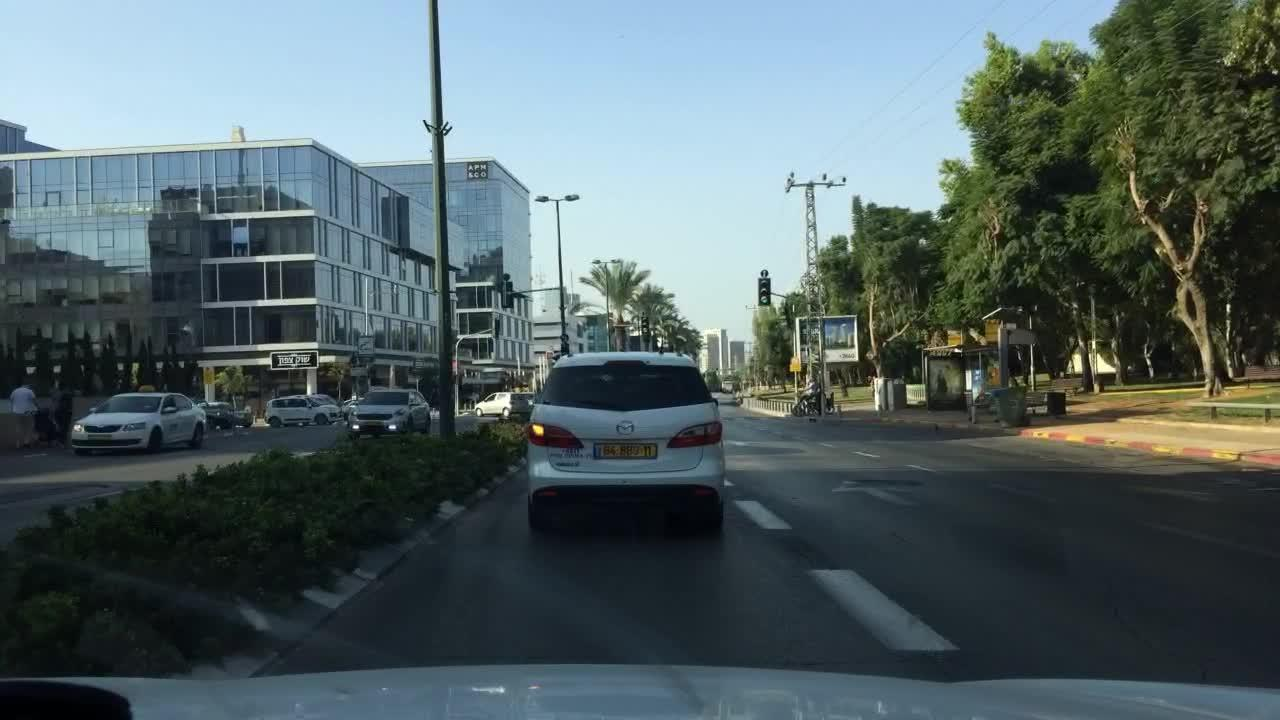Mazda: (612, 415, 642, 440)
